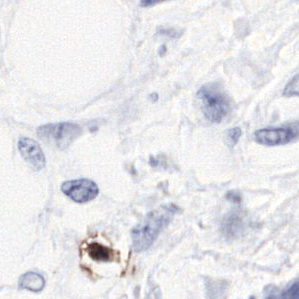Lymphocyte: (77, 235, 122, 272)
